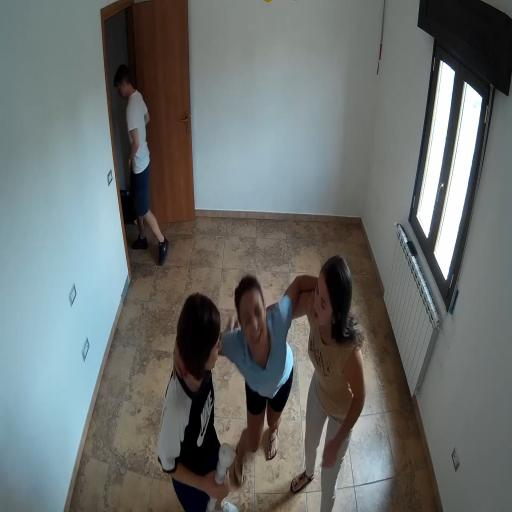nao-violencia: (143, 250, 381, 512)
